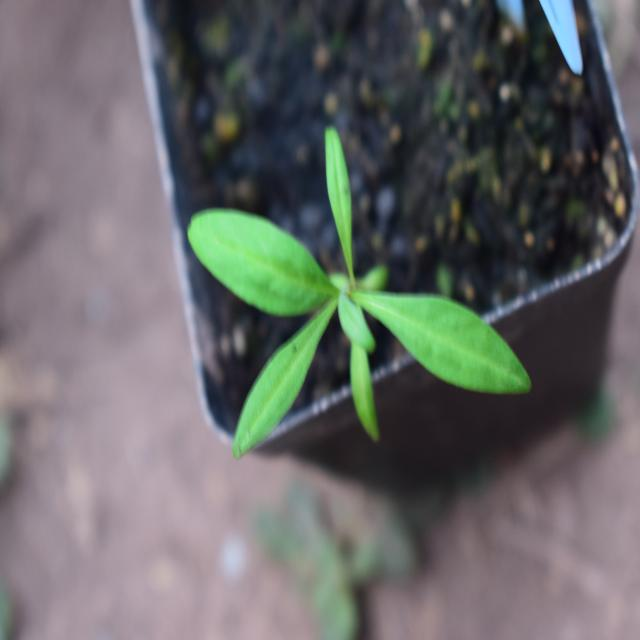white_smart_weed: (156, 151, 555, 481)
